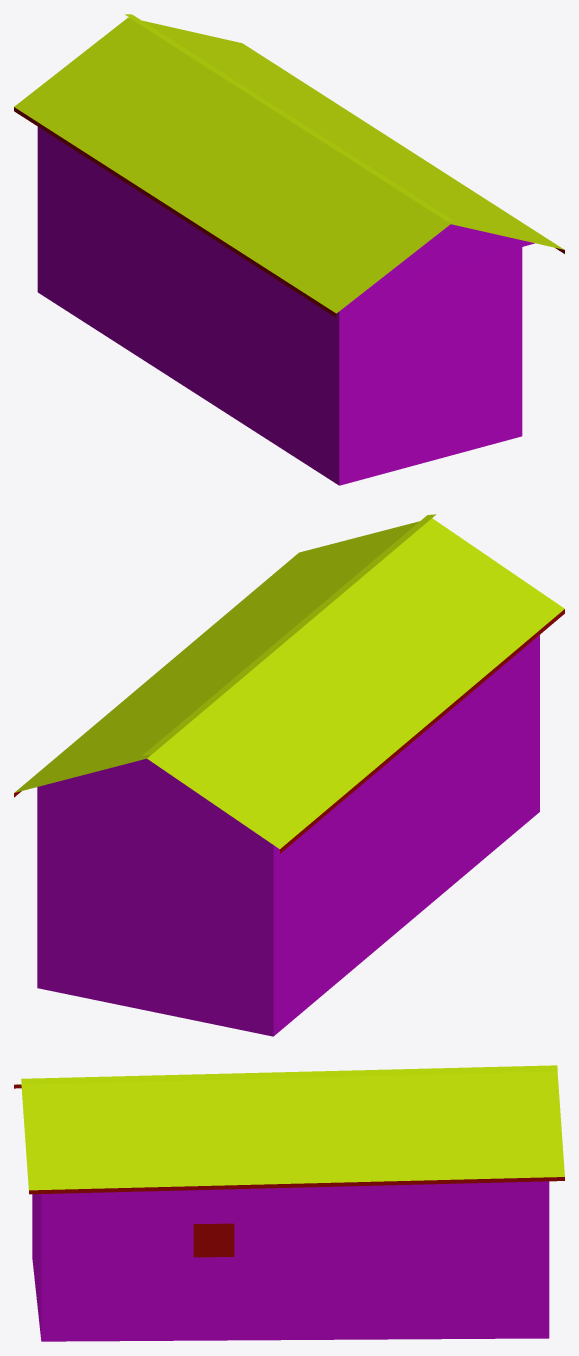
Rendered from bgj_171.glb.
3 renders of one model, top to bottom at view 1: azimuth 30°, elevation 25°; view 2: azimuth 150°, elevation 25°; view 3: azimuth 270°, elevation 25°, orthographic. The views are drawn at different scales.
Visible parts, largest first — view 1: bgj_171; view 2: bgj_171; view 3: bgj_171.
Boxes of the visible parts, left/top/right/bottom form: bgj_171: left=14, top=14, right=564, bottom=485; bgj_171: left=14, top=514, right=564, bottom=1036; bgj_171: left=14, top=1065, right=564, bottom=1341.
Size of the model in its own units: 7.68 by 6.73 by 14.99.
